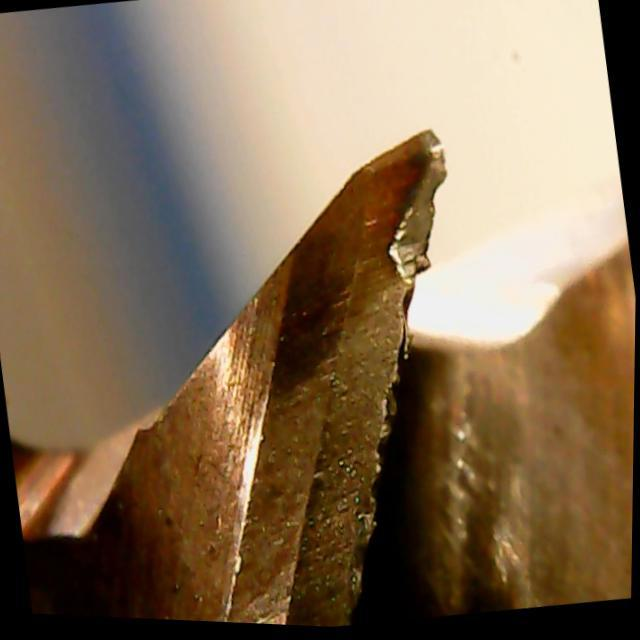Tool-wear-class-2: (281, 104, 486, 358)
